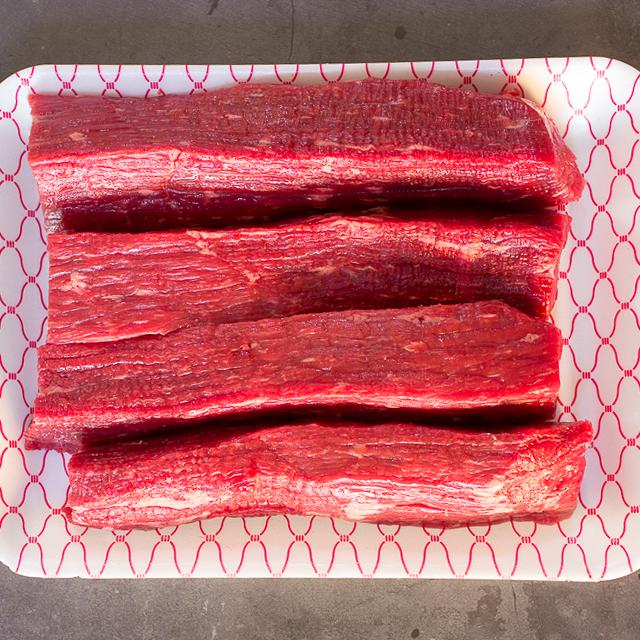beef: (51, 84, 561, 531)
